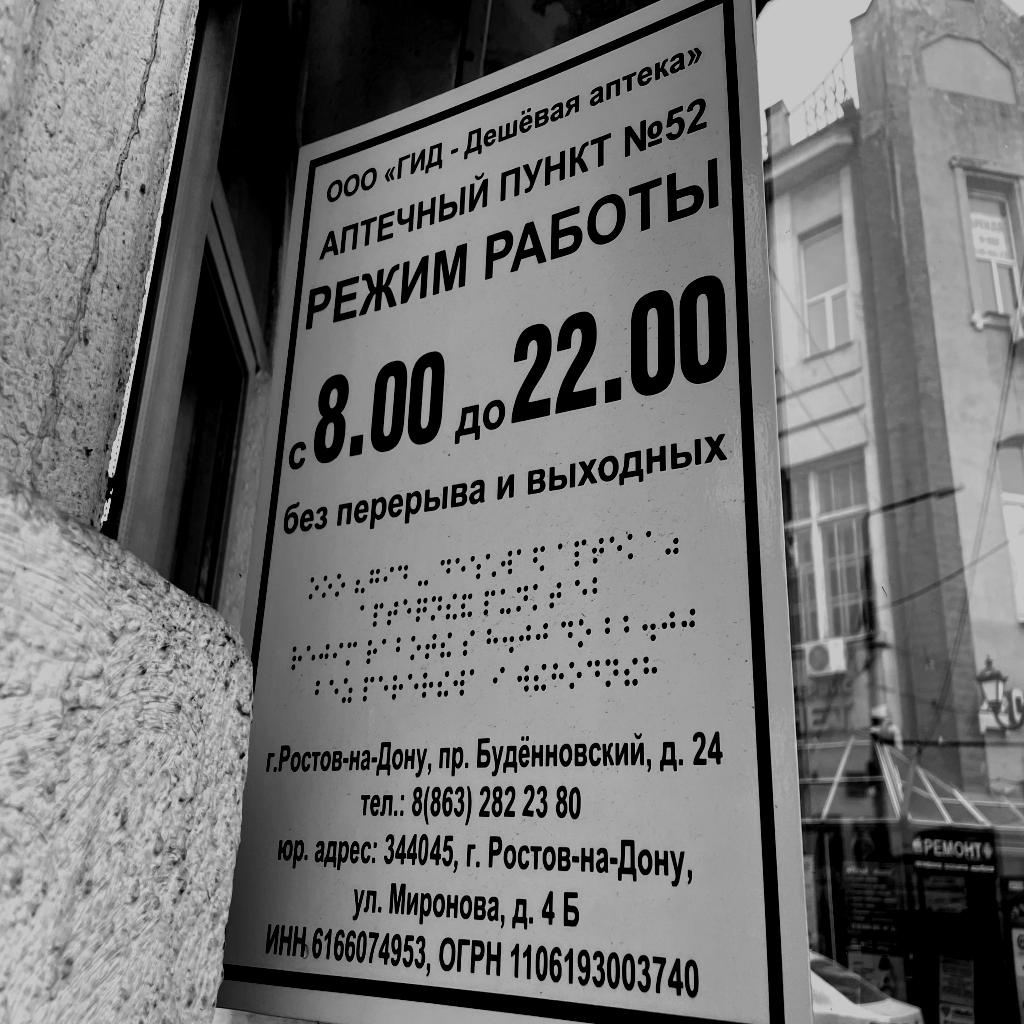_n: (605, 658, 619, 688), (516, 585, 529, 613), (431, 594, 443, 622)
_y: (500, 588, 512, 615)
a: (469, 669, 482, 696), (557, 543, 570, 569), (646, 530, 658, 556), (517, 548, 528, 574), (382, 638, 393, 662), (360, 604, 370, 626)
b: (396, 637, 407, 661), (315, 680, 326, 704)
ch: (415, 596, 428, 623)
d: (587, 659, 601, 689), (561, 620, 574, 649), (440, 558, 451, 583), (398, 564, 408, 589)
defis: (418, 562, 428, 587)
e: (609, 537, 623, 564), (408, 673, 419, 700), (455, 557, 466, 582), (379, 675, 389, 701), (306, 645, 316, 670), (329, 679, 339, 704), (403, 598, 412, 624)
g: (369, 568, 380, 594)
gh: (319, 643, 329, 668)
i: (493, 666, 505, 695), (383, 566, 394, 591), (333, 642, 343, 668)
iKratkoe: (461, 592, 473, 618)
ii: (624, 657, 639, 687), (533, 663, 547, 693), (437, 670, 450, 698), (440, 632, 453, 659), (445, 592, 457, 621)
k: (532, 584, 545, 613), (627, 533, 639, 560)
kavichki1: (355, 570, 365, 595)
kavichki2: (665, 527, 679, 557)
m: (346, 641, 358, 667)
o: (578, 618, 592, 648), (568, 661, 582, 690), (410, 635, 421, 661), (308, 576, 319, 600), (335, 573, 346, 597), (322, 575, 332, 598)
p: (483, 589, 496, 616), (362, 676, 375, 703), (574, 539, 586, 568), (372, 602, 383, 628)
r: (421, 672, 434, 700), (391, 674, 403, 701), (291, 645, 302, 671), (367, 640, 378, 666)
s: (462, 629, 475, 658)
sh: (470, 555, 481, 581)
t: (592, 537, 605, 566), (549, 582, 562, 610), (424, 632, 437, 660), (387, 600, 399, 626)
tochka: (642, 608, 656, 643), (503, 622, 515, 654)
v: (516, 664, 530, 693), (453, 668, 465, 697), (501, 550, 513, 576)
x: (643, 656, 658, 687), (552, 663, 565, 692)
ya: (533, 545, 545, 572)
yo: (486, 553, 497, 579)
z: (342, 677, 352, 704)
